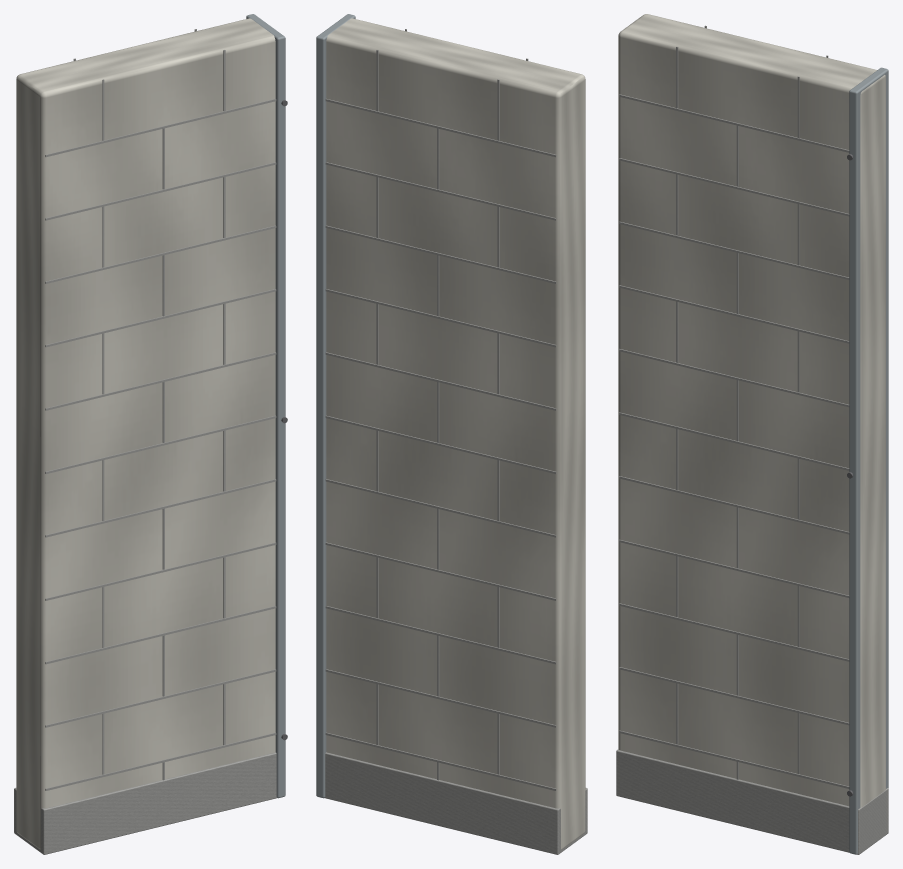
Rendered from prison-complex-builder-concrete-wall-end-88950f25__25586.glb.
3 views of the same model, side by side, from view 1: azimuth 30°, elevation 25°; view 2: azimuth 150°, elevation 25°; view 3: azimuth 330°, elevation 25° (orthographic).
Visible parts, largest first — view 1: concrete-wall-end; view 2: concrete-wall-end; view 3: concrete-wall-end.
Part boxes in pixels (left/top/right/bottom): concrete-wall-end: left=14, top=14, right=287, bottom=854; concrete-wall-end: left=316, top=14, right=587, bottom=854; concrete-wall-end: left=616, top=14, right=888, bottom=854.
Bounding box in the file's own units: 1 × 3 × 0.253.
Materials: 5 (2 with a texture image).
